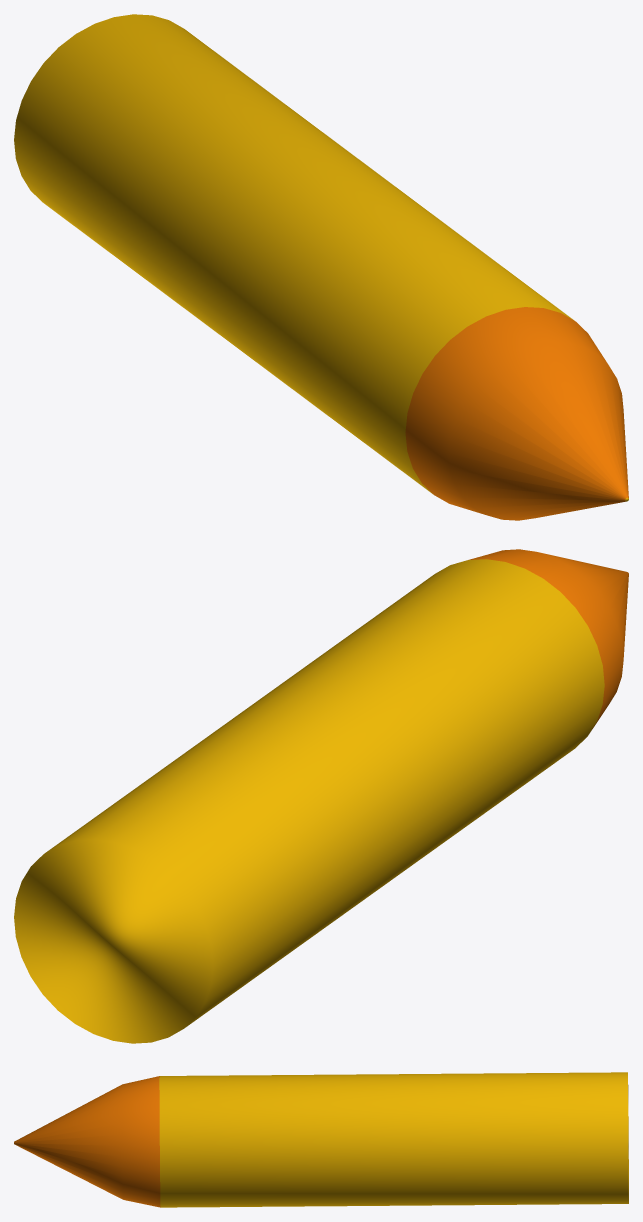
Rendered from Battle Plan Regular Bullet.fbx.
3 renders of one model, top to bottom at view 1: azimuth 30°, elevation 25°; view 2: azimuth 150°, elevation 25°; view 3: azimuth 270°, elevation 25°, orthographic. The views are drawn at different scales.
Parts seen in each view (by area): view 1: Cylinder; view 2: Cylinder; view 3: Cylinder.
Part boxes in pixels (x1,y1,x2,y2): Cylinder: (14,14,628,520); Cylinder: (14,549,628,1043); Cylinder: (14,1072,628,1207).
Size of the model in its own units: 104 by 102 by 464.
